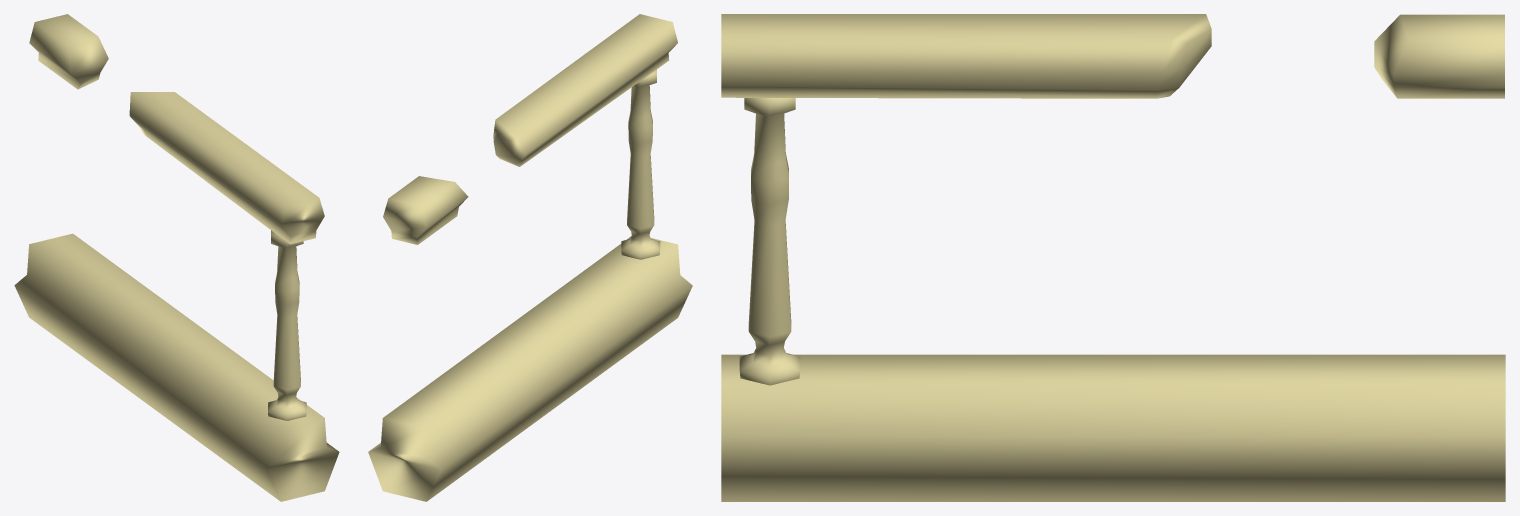
The model's file is Wood_Baluster_03_lod1.fbx.
3 renders of one model, left to right at view 1: azimuth 30°, elevation 25°; view 2: azimuth 150°, elevation 25°; view 3: azimuth 270°, elevation 25°, orthographic. The views are drawn at different scales.
Parts seen in each view (by area): view 1: Wood_Baluster_03_lod1; view 2: Wood_Baluster_03_lod1; view 3: Wood_Baluster_03_lod1.
Boxes of the visible parts, x1,y1,x2,y2 form: Wood_Baluster_03_lod1: (14, 14, 339, 501); Wood_Baluster_03_lod1: (368, 14, 692, 501); Wood_Baluster_03_lod1: (721, 14, 1505, 501).
Size of the model in its own units: 25.19 by 96.83 by 150.
